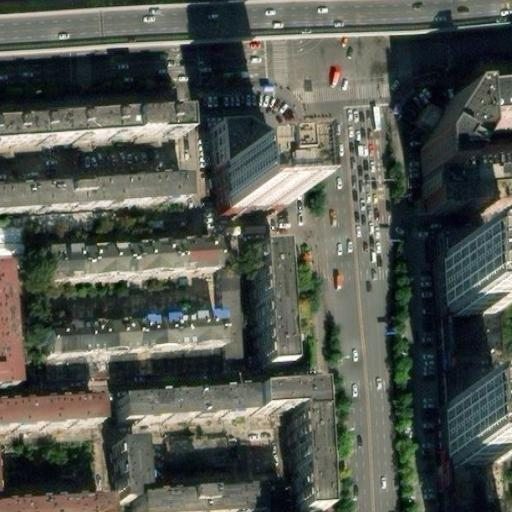building: (421, 83, 512, 203), (26, 247, 200, 296), (41, 304, 221, 348), (0, 162, 181, 197), (0, 110, 180, 144), (112, 386, 252, 416), (438, 413, 494, 473), (433, 261, 489, 321), (0, 394, 91, 428), (207, 155, 269, 204), (131, 489, 260, 512), (289, 422, 319, 512), (253, 292, 282, 382), (207, 118, 266, 159), (253, 391, 316, 424), (461, 165, 512, 203), (0, 268, 11, 391)
